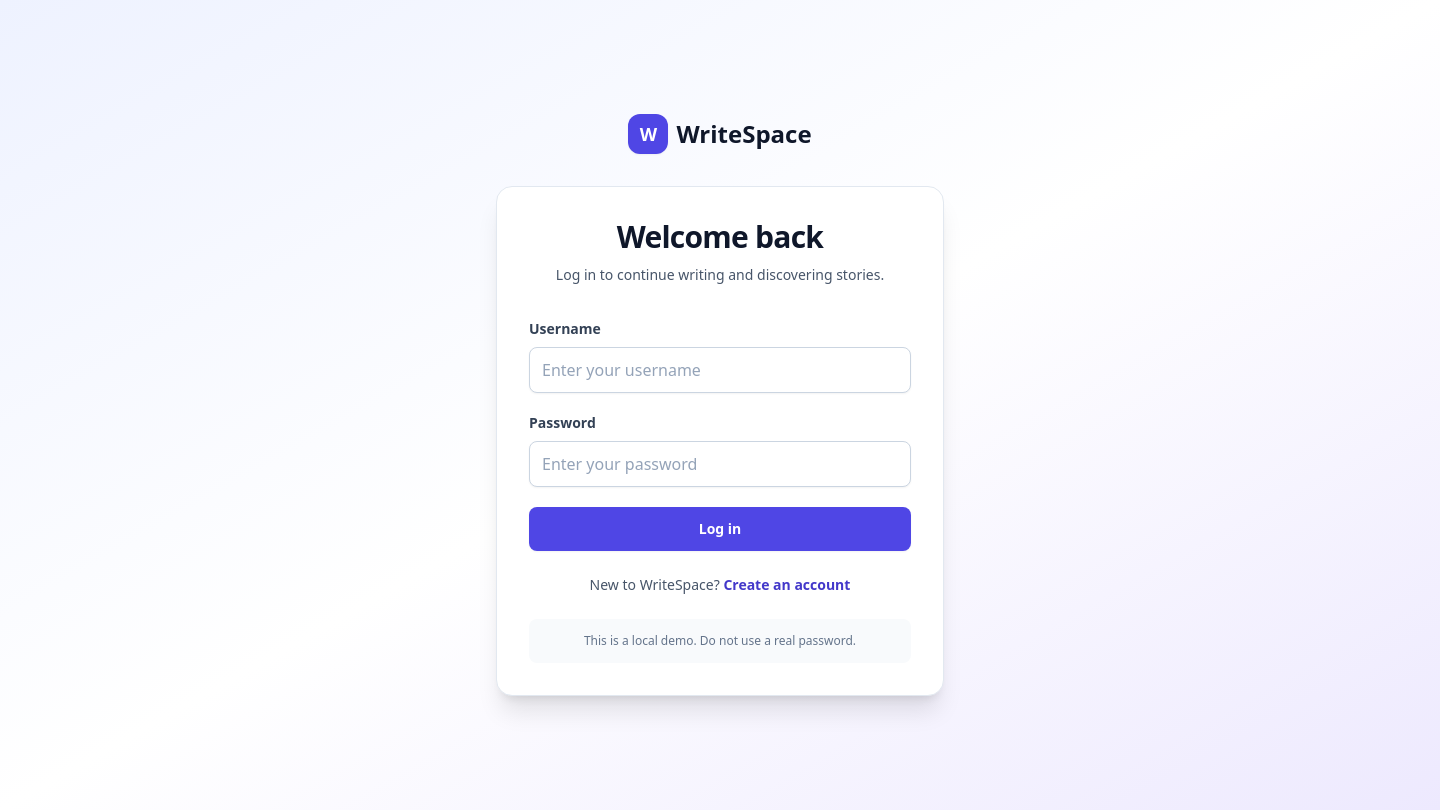
Test: LoginPage › renders the exact invalid-credential error and remains on login
In the field labelled "Username": (720,370) [529,347,911,393], type "alice"
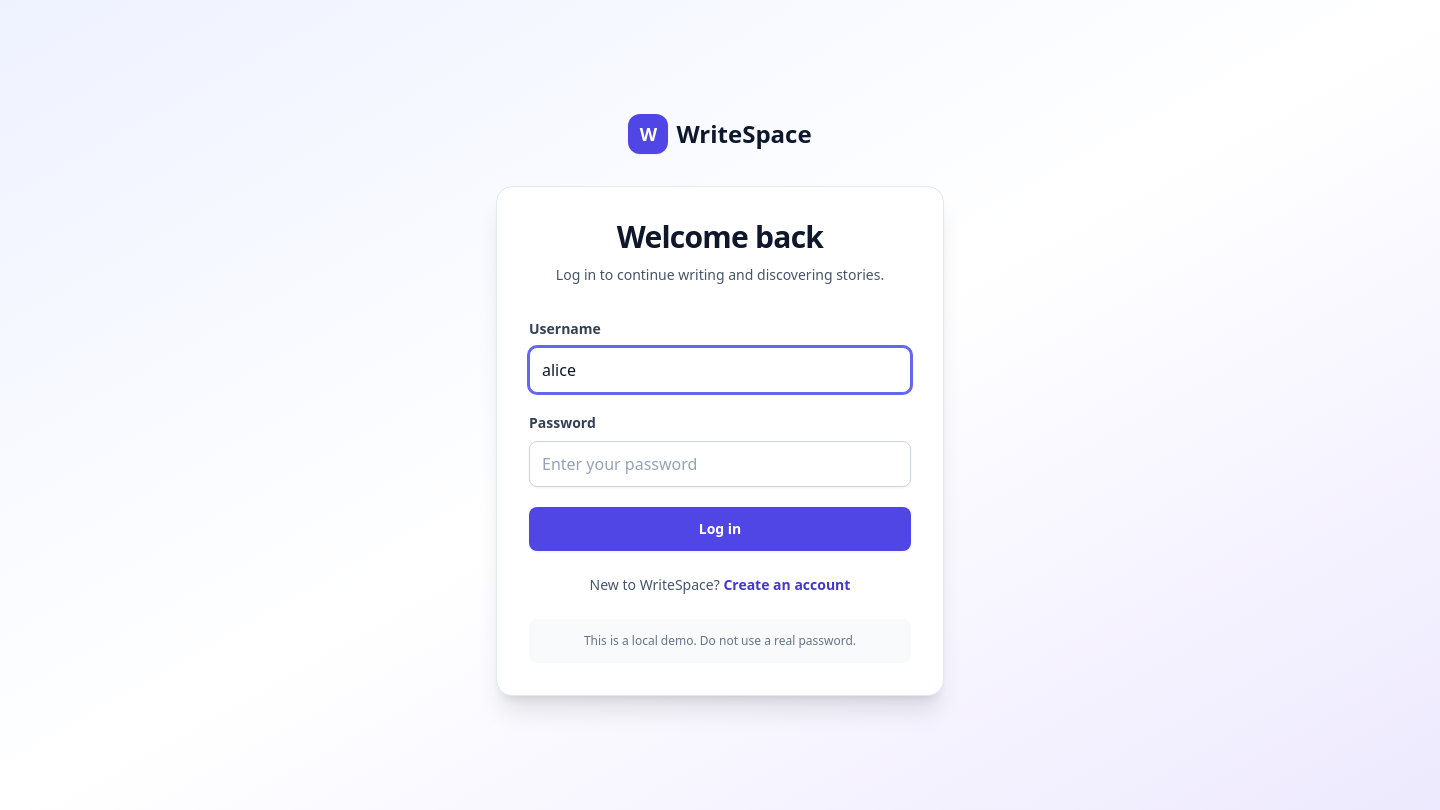
In the password field labelled "Password": (720,464) [529,441,911,487], type "incorrect"
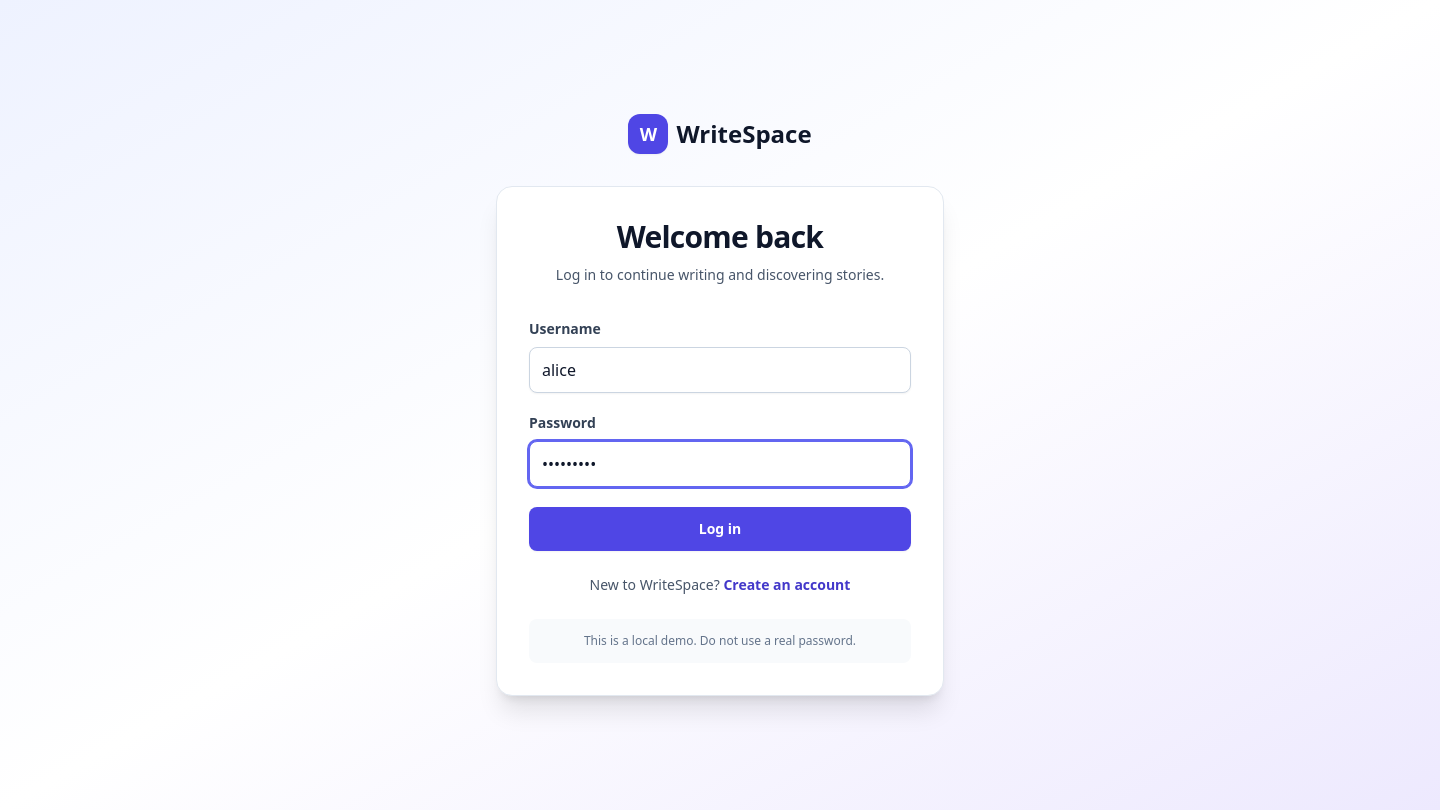
Click the button "Log in": (720,529) [529,507,911,551]
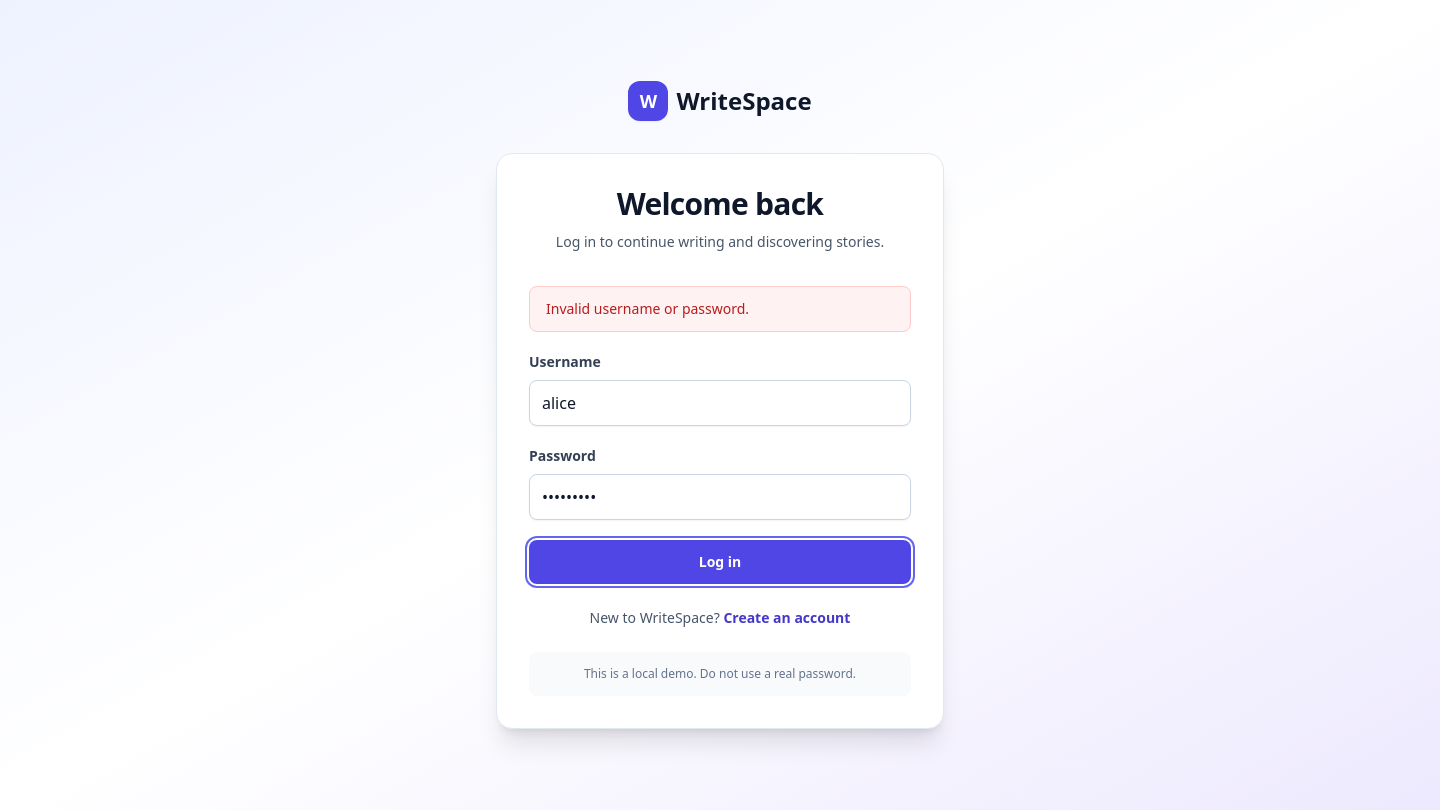
Check: the heading "Welcome back" is shown, box [617,183,823,224]
Check: the message reads "Invalid username or password.", box [546,299,749,318]
